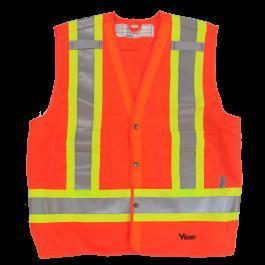vest: (23, 10, 244, 260)
